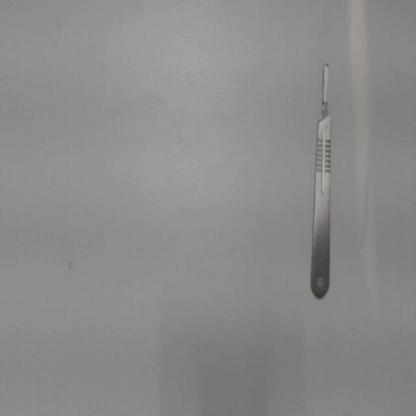No.4 BP Handle: (302, 53, 338, 308)
